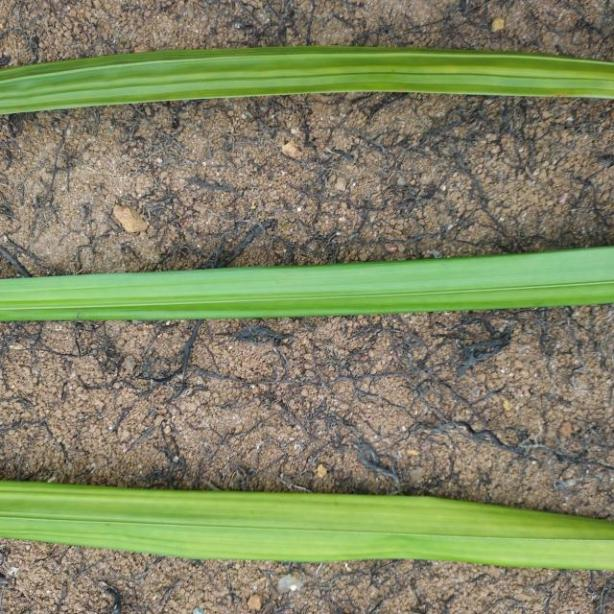nitrogen: (0, 475, 614, 564), (0, 243, 614, 329), (0, 37, 614, 117)
